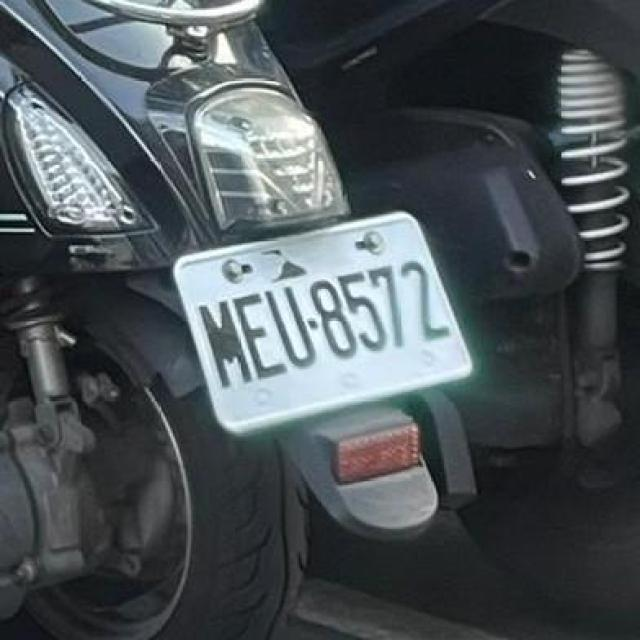W: (158, 181, 478, 449)
